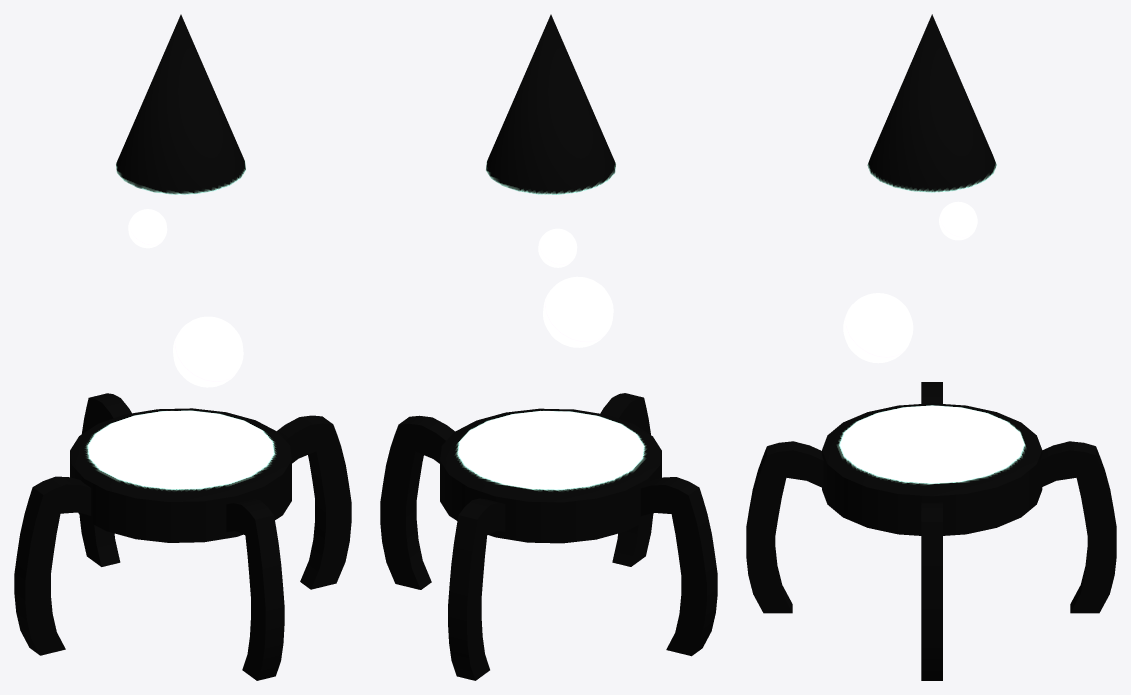
The model's file is AnaKarem@LamparaLava 1.fbx.
3 renders of one model, left to right at view 1: azimuth 30°, elevation 25°; view 2: azimuth 150°, elevation 25°; view 3: azimuth 270°, elevation 25°, orthographic.
Parts seen in each view (by area): view 1: pCone2; view 2: pCone2; view 3: pCone2.
Boxes of the visible parts, x1,y1,x2,y2 form: pCone2: [14, 14, 351, 680]; pCone2: [380, 14, 717, 680]; pCone2: [746, 14, 1116, 680].
Size of the model in its own units: 12.74 by 22.47 by 12.69.
